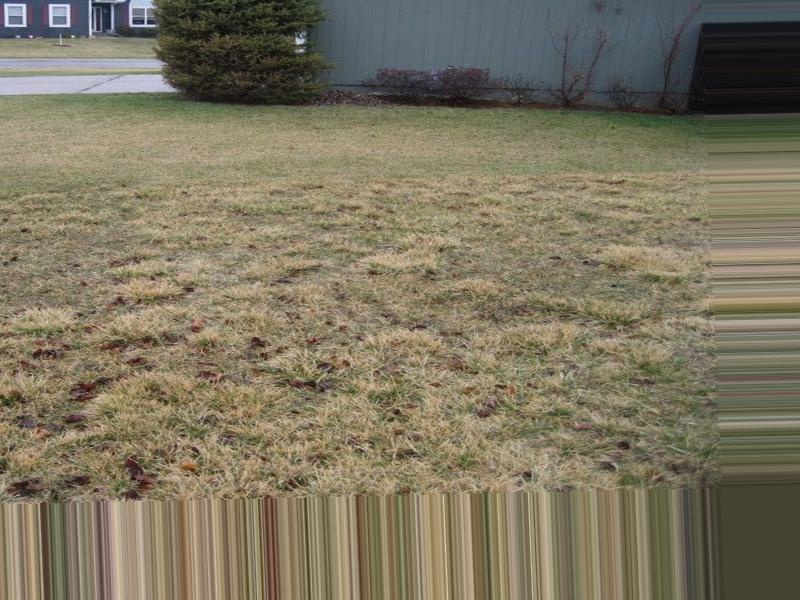patch: (27, 242, 80, 312), (491, 240, 542, 288), (181, 133, 254, 158), (358, 136, 436, 157)
